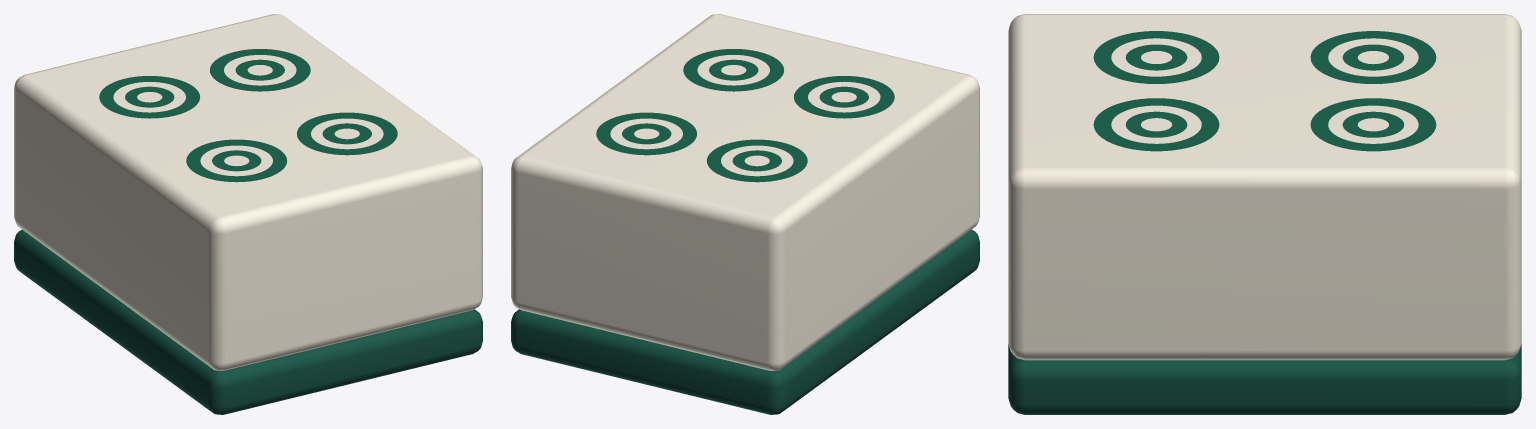
The model's file is tong-04.glb.
3 views of the same model, side by side, from view 1: azimuth 30°, elevation 25°; view 2: azimuth 150°, elevation 25°; view 3: azimuth 270°, elevation 25° (orthographic). The views are drawn at different scales.
Parts seen in each view (by area): view 1: tong-04_ivory, tong-04_back, tong-04_face_inlays; view 2: tong-04_ivory, tong-04_back, tong-04_face_inlays; view 3: tong-04_ivory, tong-04_back, tong-04_face_inlays.
Boxes of the visible parts, left/top/right/bottom form: tong-04_ivory: left=14, top=14, right=482, bottom=370; tong-04_back: left=14, top=229, right=482, bottom=414; tong-04_face_inlays: left=99, top=49, right=397, bottom=182; tong-04_ivory: left=511, top=14, right=979, bottom=370; tong-04_back: left=511, top=229, right=979, bottom=414; tong-04_face_inlays: left=596, top=49, right=894, bottom=182; tong-04_ivory: left=1008, top=14, right=1521, bottom=360; tong-04_back: left=1008, top=344, right=1521, bottom=414; tong-04_face_inlays: left=1093, top=31, right=1436, bottom=151.
Size of the model in its own units: 0.026 by 0.018 by 0.034.
